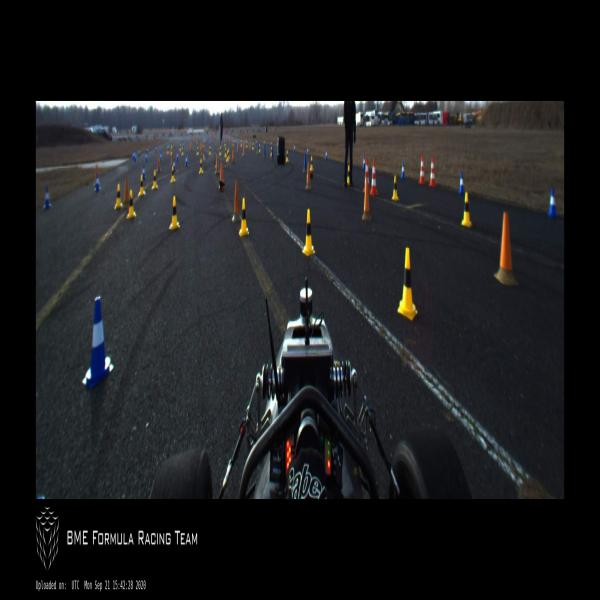blue_cone: (82, 296, 114, 387), (548, 187, 558, 217), (43, 185, 52, 210), (458, 172, 465, 194), (94, 174, 101, 191), (401, 161, 405, 179), (142, 165, 146, 180), (363, 155, 366, 170), (185, 151, 188, 166), (176, 151, 179, 162), (304, 153, 306, 169), (185, 156, 188, 166), (325, 150, 328, 160), (174, 159, 176, 171), (145, 154, 148, 162), (160, 151, 162, 162), (264, 144, 266, 154), (294, 144, 296, 153), (307, 147, 309, 155)
large_orange_cone: (370, 158, 378, 195), (363, 156, 370, 193), (428, 155, 436, 187), (420, 155, 426, 185)
unknown_cone: (494, 211, 519, 286), (362, 177, 371, 221), (232, 181, 241, 222), (305, 162, 313, 190), (123, 176, 128, 208), (218, 162, 224, 186), (215, 155, 220, 174), (157, 154, 162, 173), (94, 165, 98, 185), (231, 146, 235, 162), (242, 144, 245, 156), (171, 151, 173, 164), (237, 142, 239, 152)
yellow_cone: (397, 247, 418, 321), (302, 208, 316, 256), (239, 197, 249, 236), (461, 192, 472, 227), (169, 195, 180, 229), (126, 189, 136, 218), (114, 183, 123, 210), (391, 175, 399, 201), (138, 174, 146, 197), (152, 170, 159, 190), (170, 165, 176, 183), (347, 164, 350, 186), (199, 158, 203, 174), (310, 155, 313, 171), (226, 150, 229, 162), (219, 147, 222, 157), (196, 146, 199, 156), (181, 147, 184, 156), (286, 150, 288, 162), (228, 148, 230, 160), (270, 146, 272, 157), (225, 147, 227, 157), (170, 145, 172, 155), (209, 146, 211, 155), (252, 142, 254, 150), (167, 147, 169, 154), (259, 144, 260, 152)
